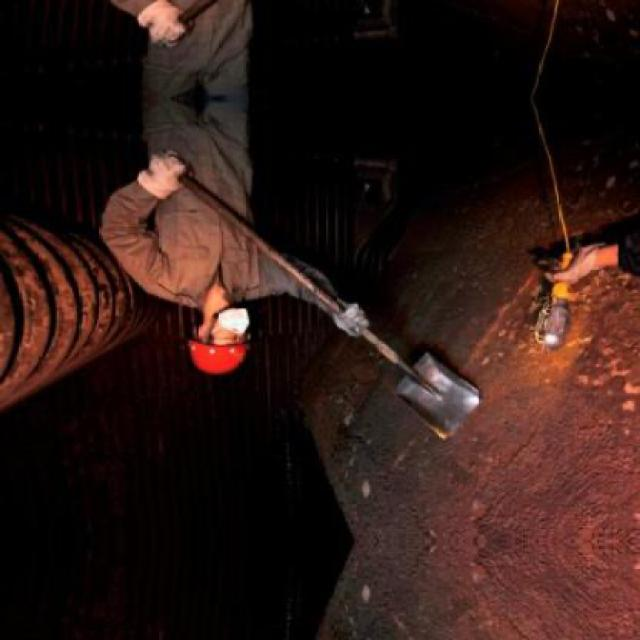con casco: (108, 245, 293, 398)
